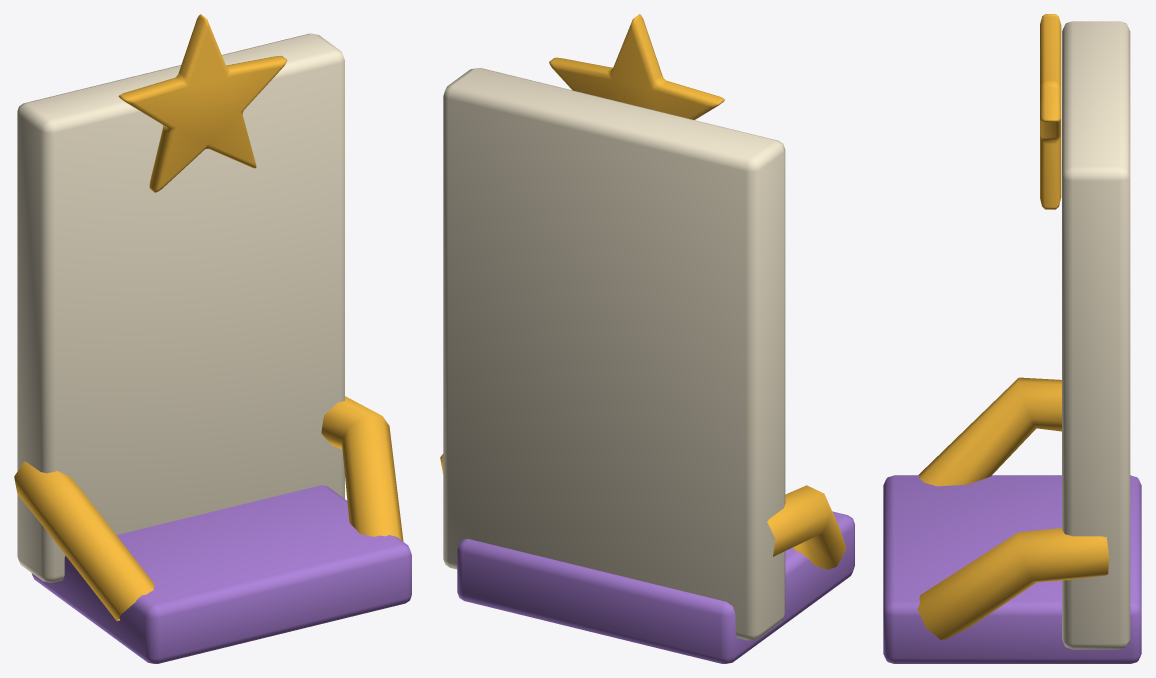
The model's file is r029_castle_throne_model_throne.glb.
3 views of the same model, side by side, from view 1: azimuth 30°, elevation 25°; view 2: azimuth 150°, elevation 25°; view 3: azimuth 270°, elevation 25° (orthographic). The views are drawn at different scales.
Visible parts, largest first — view 1: r029_castle_throne_model_throne.001; view 2: r029_castle_throne_model_throne.001; view 3: r029_castle_throne_model_throne.001.
Part boxes in pixels (left/top/right/bottom): r029_castle_throne_model_throne.001: left=14, top=14, right=411, bottom=663; r029_castle_throne_model_throne.001: left=440, top=14, right=854, bottom=663; r029_castle_throne_model_throne.001: left=883, top=14, right=1141, bottom=663.
Size of the model in its own units: 2.75 by 4.26 by 1.7.
